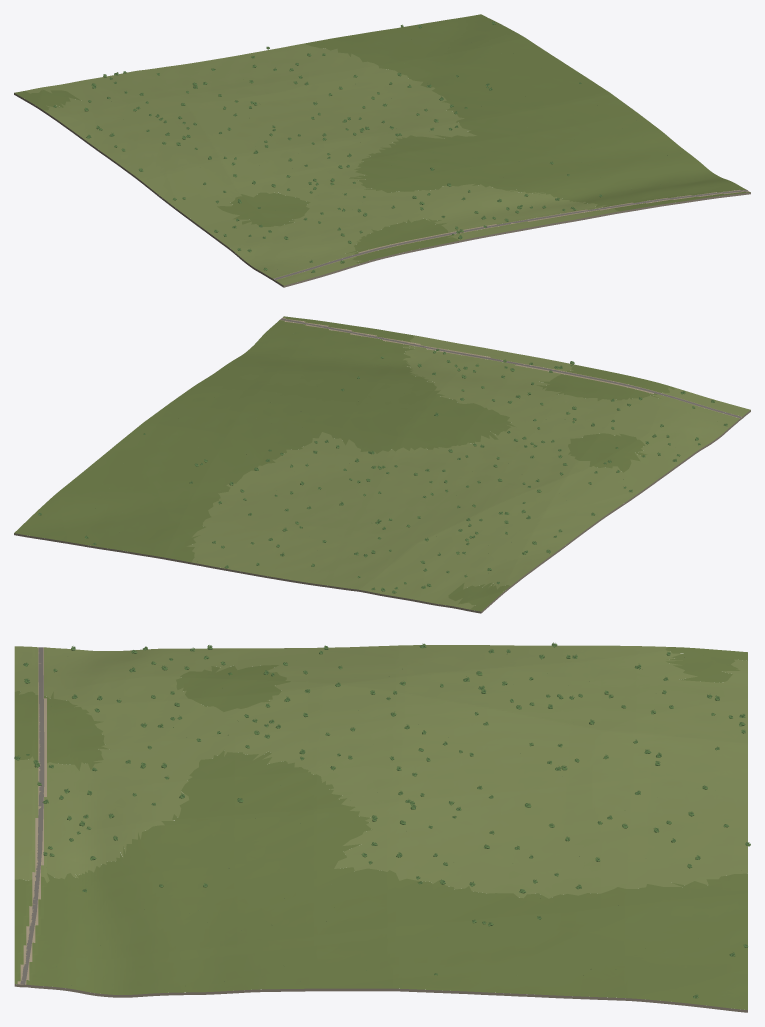
File: parca_+10_-2-yakin.glb
The picture shows the model from 3 angles, top to bottom: view 1: azimuth 30°, elevation 25°; view 2: azimuth 150°, elevation 25°; view 3: azimuth 270°, elevation 25°; orthographic projection. The views are drawn at different scales.
Visible parts, largest first — view 1: parca_+10_-2_arazi, parca_+10_-2_bitkiler, parca_+10_-2_yollar; view 2: parca_+10_-2_arazi, parca_+10_-2_bitkiler, parca_+10_-2_yollar; view 3: parca_+10_-2_arazi, parca_+10_-2_bitkiler, parca_+10_-2_yollar.
Part boxes in pixels (x1,y1,x2,y2): parca_+10_-2_arazi: [14, 14, 750, 287]; parca_+10_-2_bitkiler: [53, 21, 667, 272]; parca_+10_-2_yollar: [273, 190, 748, 279]; parca_+10_-2_arazi: [14, 316, 750, 613]; parca_+10_-2_bitkiler: [38, 333, 727, 593]; parca_+10_-2_yollar: [280, 318, 741, 417]; parca_+10_-2_arazi: [14, 645, 747, 1012]; parca_+10_-2_bitkiler: [14, 642, 750, 998]; parca_+10_-2_yollar: [20, 647, 44, 984].
Bounding box in the file's own units: 1000 × 102 × 1005.
